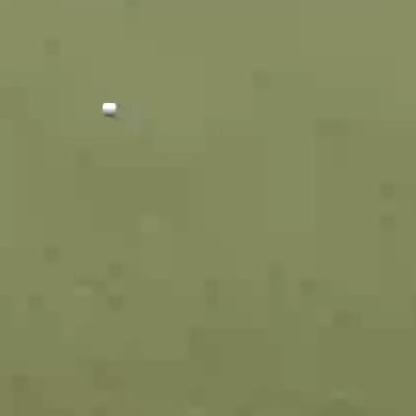golfball: (99, 99, 116, 114)
